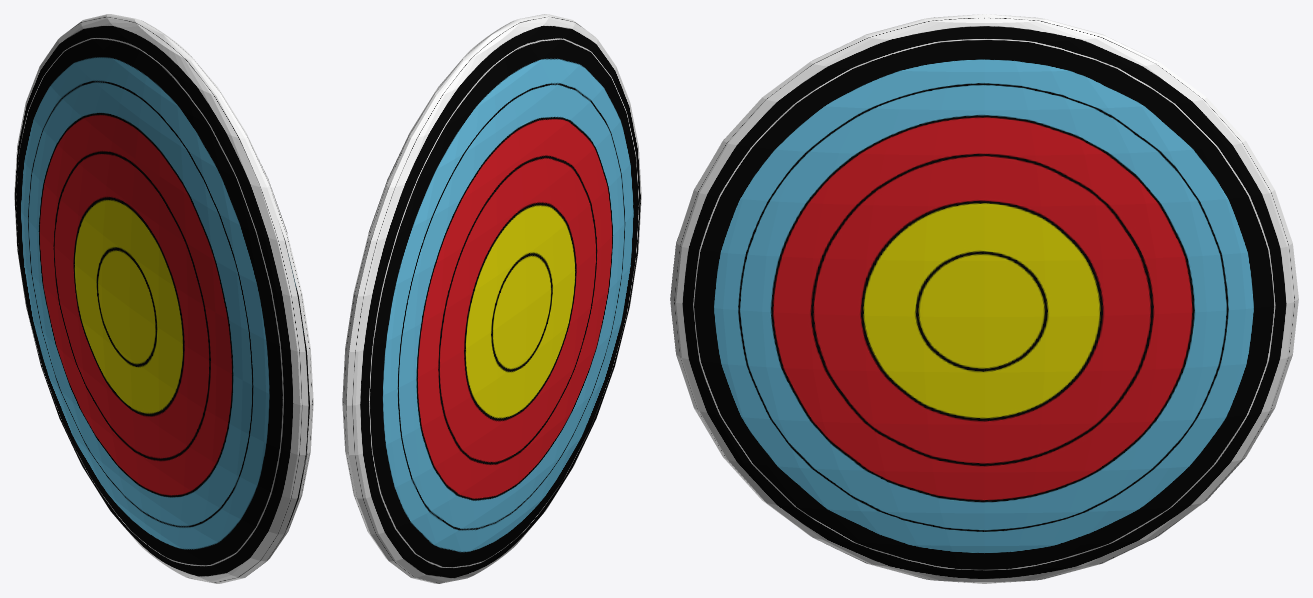
Rendered from Target.fbx.
3 views of the same model, side by side, from view 1: azimuth 30°, elevation 25°; view 2: azimuth 150°, elevation 25°; view 3: azimuth 270°, elevation 25° (orthographic). The views are drawn at different scales.
Parts seen in each view (by area): view 1: Sphere; view 2: Sphere; view 3: Sphere.
Boxes of the visible parts, left/top/right/bottom form: Sphere: left=14, top=14, right=313, bottom=583; Sphere: left=342, top=14, right=641, bottom=583; Sphere: left=670, top=14, right=1298, bottom=583.
Bounding box in the file's own units: 27.27 × 200 × 200.
